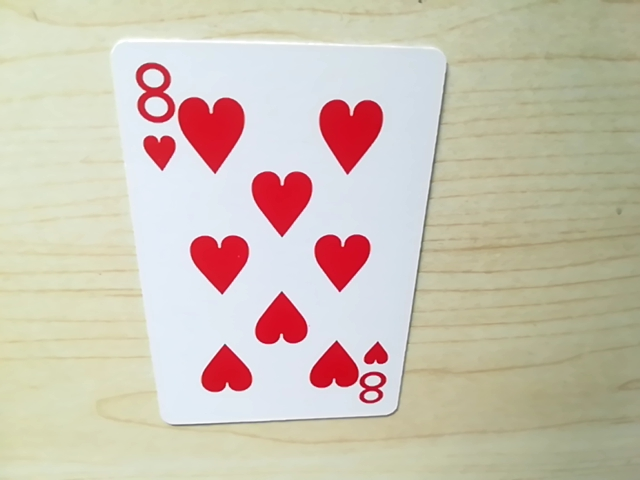hx 8: (125, 53, 182, 173), (350, 359, 395, 409)
